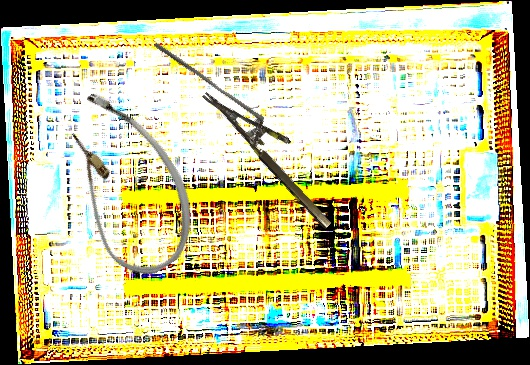Cannula: (30, 77, 218, 290)
Needle Holder: (202, 72, 350, 231)
Pusher: (150, 41, 268, 123)
